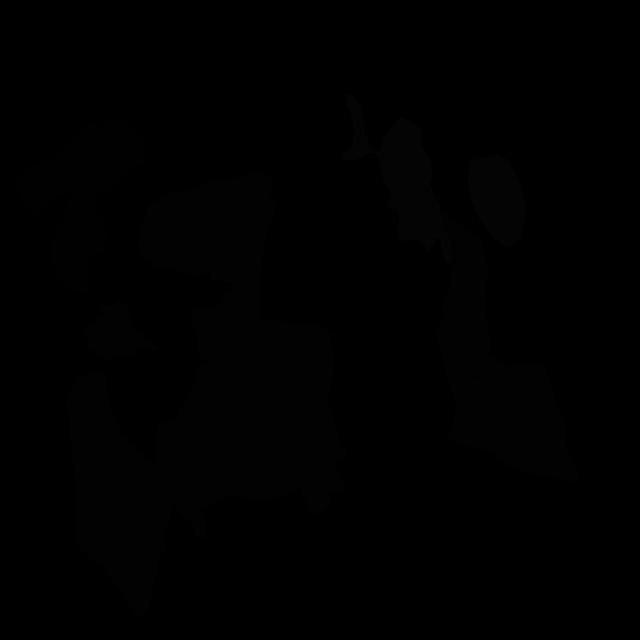cardboard: (152, 320, 348, 540), (66, 374, 174, 619), (138, 173, 277, 361), (446, 362, 580, 483), (436, 202, 503, 394), (83, 299, 160, 362)
rigid_plastic: (12, 118, 146, 295)
soft_plastic: (342, 94, 432, 243), (468, 154, 527, 245), (422, 185, 455, 265), (381, 116, 422, 155)
